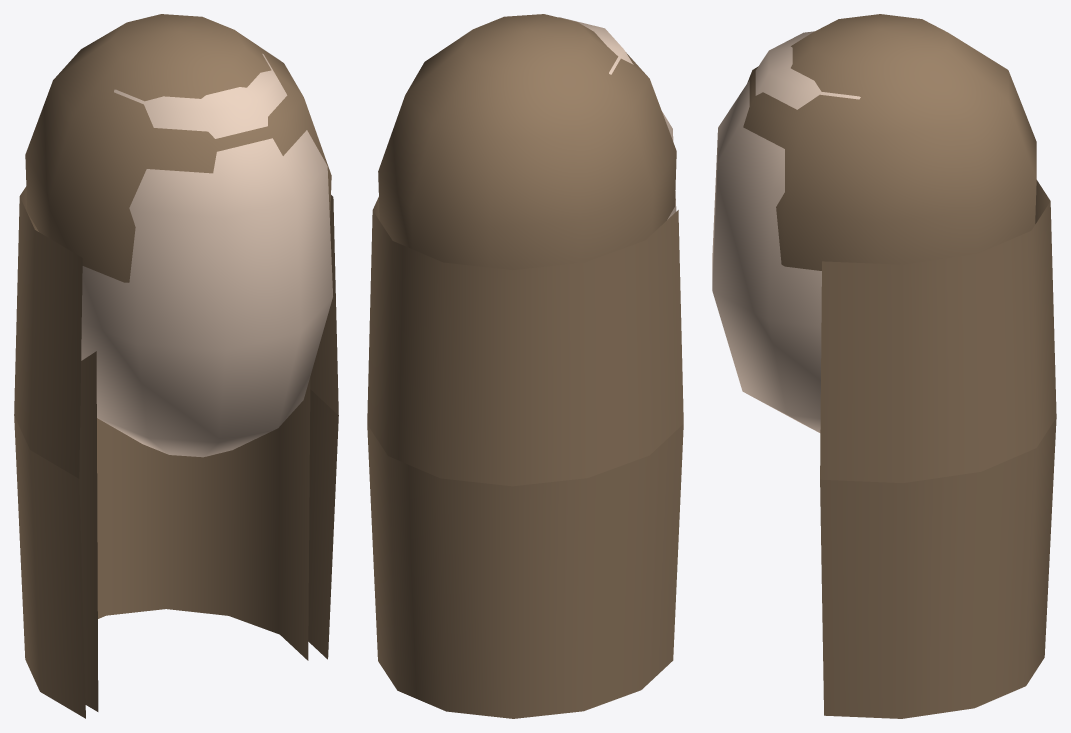
File: head_longhair.glb
3 renders of one model, left to right at view 1: azimuth 30°, elevation 25°; view 2: azimuth 150°, elevation 25°; view 3: azimuth 270°, elevation 25°, orthographic. The views are drawn at different scales.
Visible parts, largest first — view 1: head_longhair; view 2: head_longhair; view 3: head_longhair.
Boxes of the visible parts, bbox=[...] form: head_longhair: bbox=[14, 14, 338, 718]; head_longhair: bbox=[367, 14, 683, 718]; head_longhair: bbox=[712, 14, 1056, 718].
Bounding box in the file's own units: 0.1765 × 0.392 × 0.1948.
